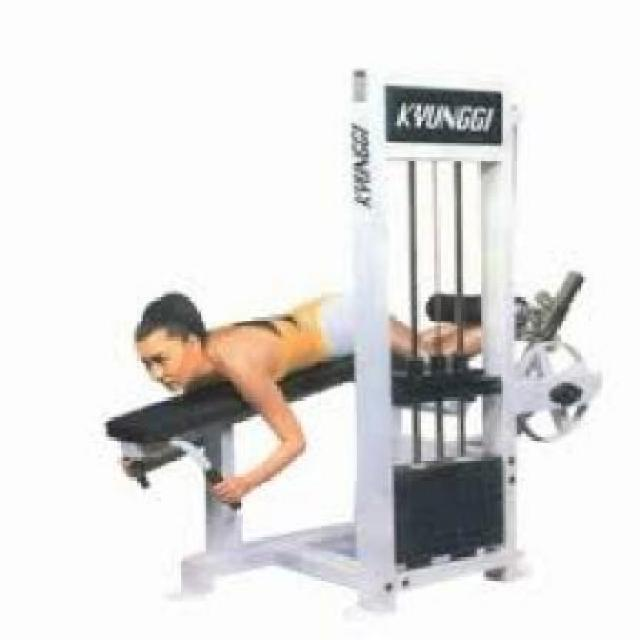reg curl machine: (103, 68, 606, 604)
